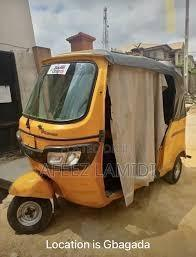keke: (3, 47, 196, 234)
